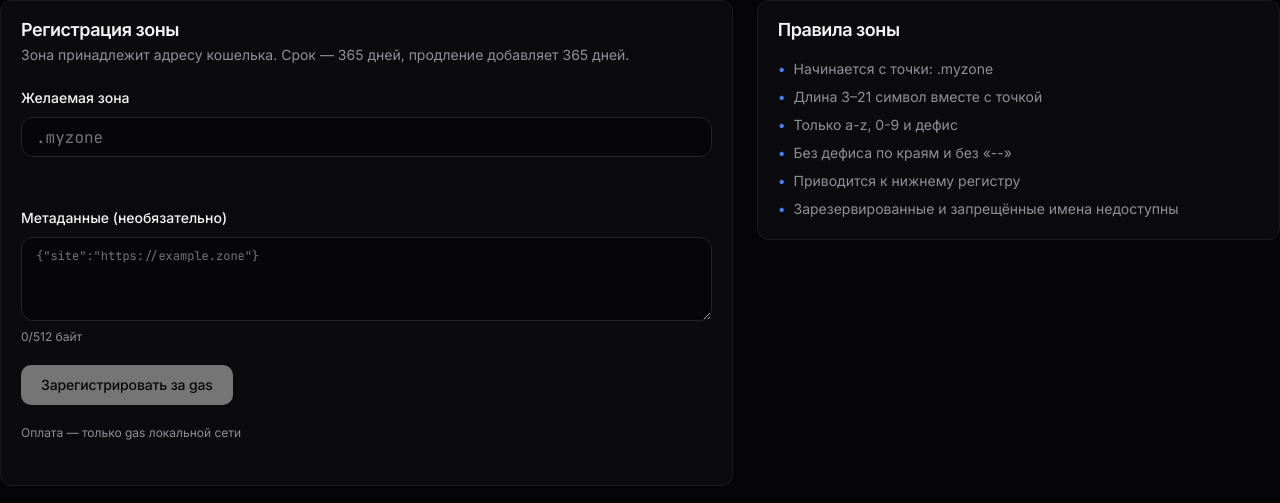
Scenario: UI: форма регистрации › блокирует отправку и объясняет ошибку при невалидной зоне
The width and height of the screenshot is (1280, 503).
Type ".my_zone" into the field labelled "Желаемая зона".
click(366, 137); type(".my_zone")  # box [21, 117, 712, 157]
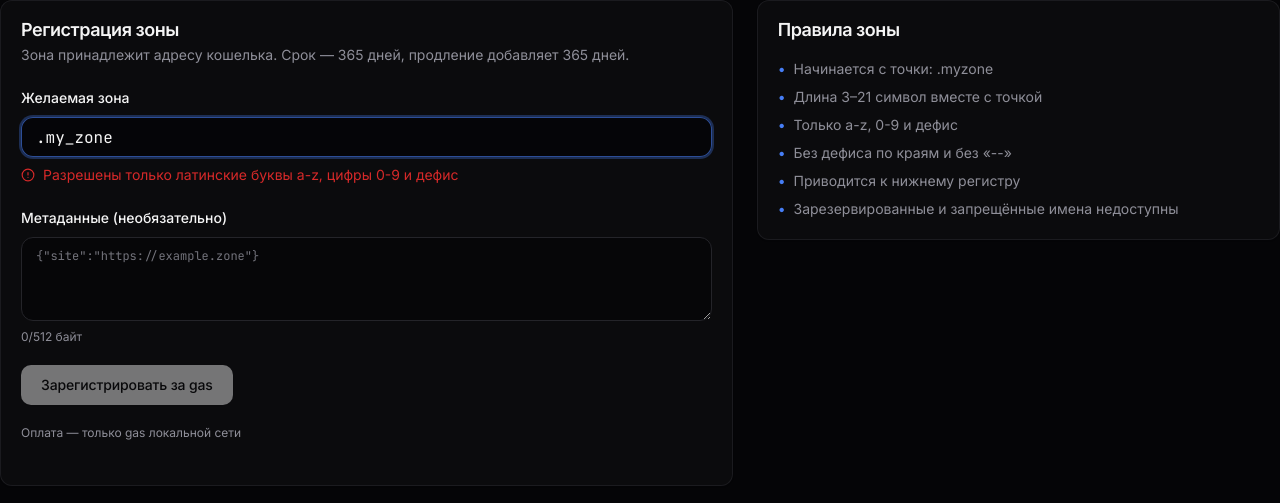
Expected: the button "Зарегистрировать за gas" is disabled, [21, 365, 233, 405]
Expected: the text "Разрешены только латинские буквы a-z, цифры 0-9 и дефис" is shown, [21, 166, 458, 183]
